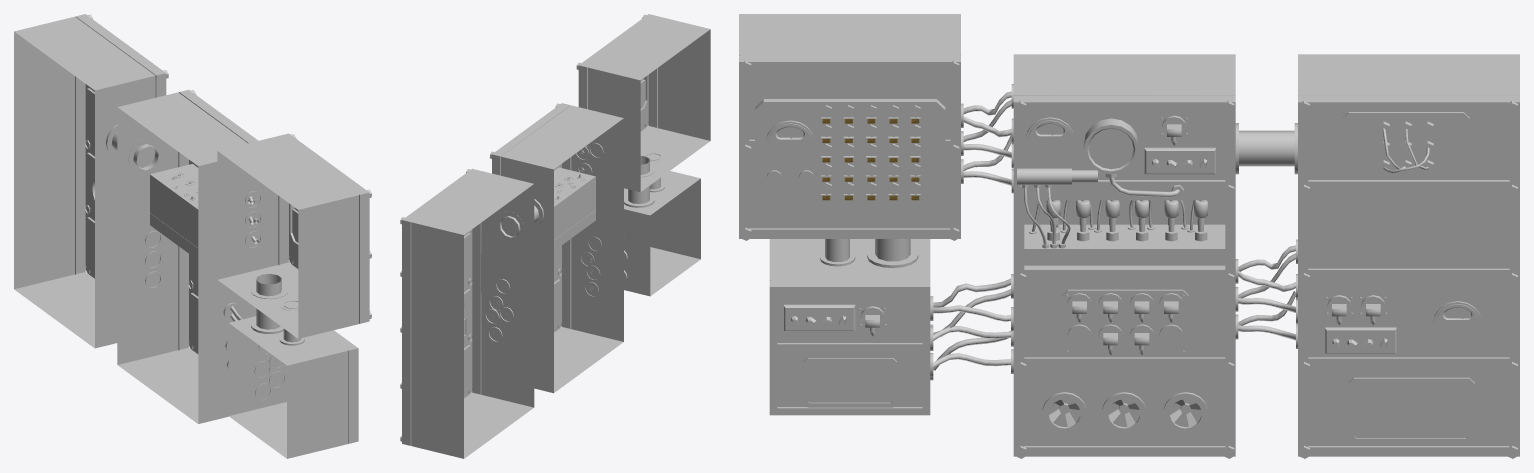
Rendered from house_control_box.DAE.
The picture shows the model from 3 angles, left to right: view 1: azimuth 30°, elevation 25°; view 2: azimuth 150°, elevation 25°; view 3: azimuth 270°, elevation 25°; orthographic projection. The views are drawn at different scales.
Parts seen in each view (by area): view 1: house_control, flange, pipe, cylinders; view 2: house_control, flange, pipe; view 3: house_control, cylinders, vent, wires, pipe, flange, switch_numbers, component.
Part boxes in pixels (x1=…): house_control: x1=14, y1=14, x2=369, y2=458; flange: x1=106, y1=124, x2=304, y2=345; pipe: x1=111, y1=132, x2=301, y2=342; cylinders: x1=85, y1=14, x2=371, y2=349; house_control: x1=402, y1=14, x2=710, y2=458; flange: x1=496, y1=152, x2=664, y2=240; pipe: x1=499, y1=153, x2=660, y2=237; house_control: x1=739, y1=14, x2=1519, y2=456; cylinders: x1=740, y1=60, x2=1518, y2=458; vent: x1=808, y1=363, x2=1468, y2=438; wires: x1=933, y1=91, x2=1295, y2=370; pipe: x1=825, y1=130, x2=1294, y2=261; flange: x1=820, y1=123, x2=1297, y2=268; switch_numbers: x1=822, y1=119, x2=919, y2=200; component: x1=1017, y1=168, x2=1071, y2=184.
Size of the model in its own units: 0.8588 by 4.84 by 2.71.
